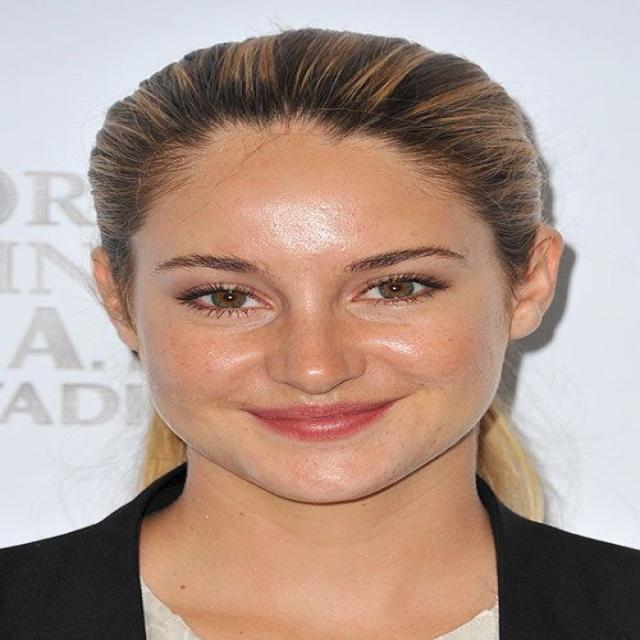oily: (228, 164, 382, 258), (172, 340, 284, 428), (392, 327, 504, 415), (269, 133, 402, 161), (151, 201, 220, 254), (318, 472, 390, 520)
